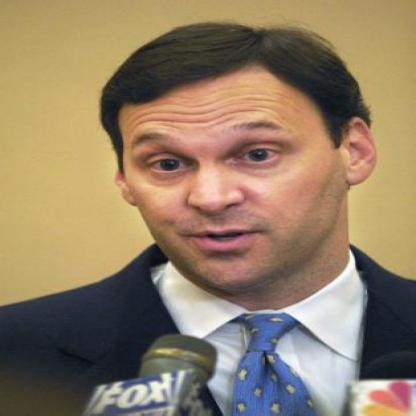face: (114, 31, 347, 292)
